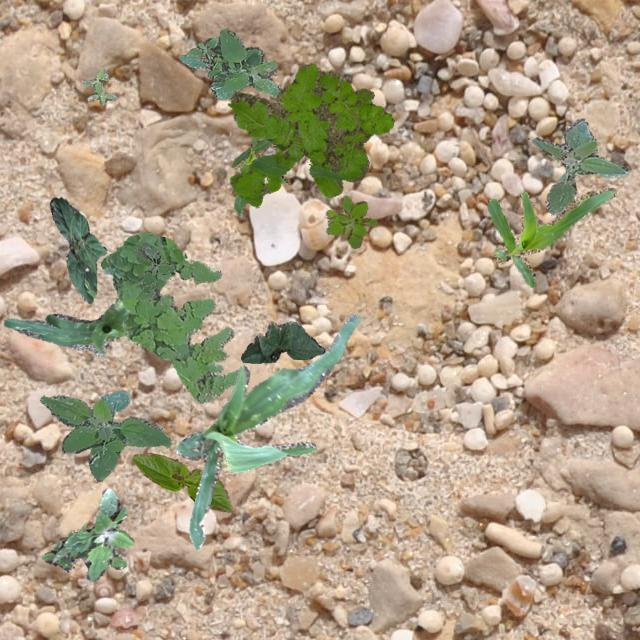crop: (175, 312, 359, 548), (486, 187, 616, 286), (2, 296, 128, 356), (48, 196, 106, 302), (131, 452, 231, 512), (232, 136, 288, 214), (240, 321, 324, 362)
weed: (228, 62, 394, 206), (100, 230, 236, 402), (38, 388, 170, 481), (532, 118, 626, 214), (41, 488, 132, 580), (178, 28, 282, 98), (324, 195, 376, 248), (134, 242, 174, 292), (80, 66, 116, 105)
